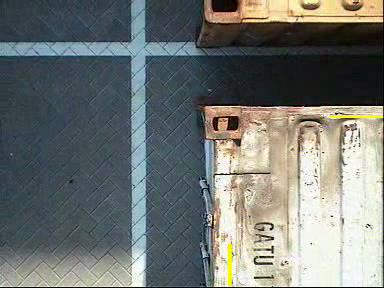groundmarker_2: (106, 26, 200, 101), (105, 197, 199, 271)
